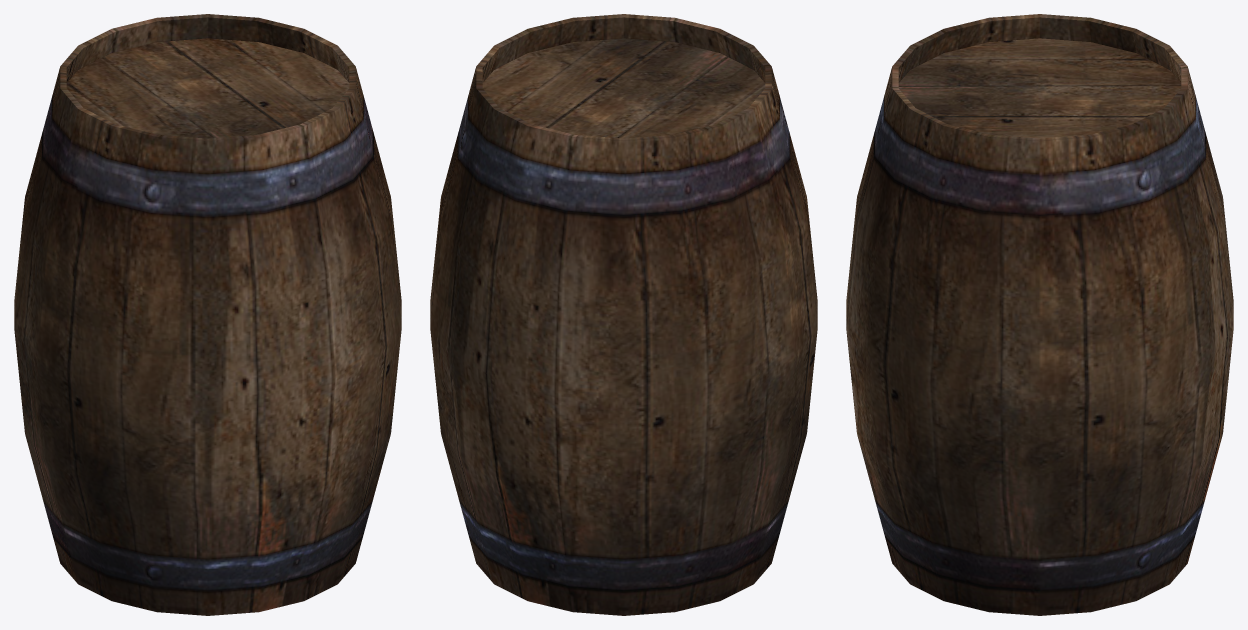
The model's file is Lab_Barrel.gltf.
3 renders of one model, left to right at view 1: azimuth 30°, elevation 25°; view 2: azimuth 150°, elevation 25°; view 3: azimuth 270°, elevation 25°, orthographic.
Parts seen in each view (by area): view 1: Lab_Barrel; view 2: Lab_Barrel; view 3: Lab_Barrel.
Boxes of the visible parts, left/top/right/bottom form: Lab_Barrel: left=14, top=14, right=401, bottom=615; Lab_Barrel: left=430, top=14, right=817, bottom=615; Lab_Barrel: left=846, top=14, right=1233, bottom=615.
Size of the model in its own units: 0.015 by 0.02 by 0.0148.
Materials: 1 (1 with a texture image).
